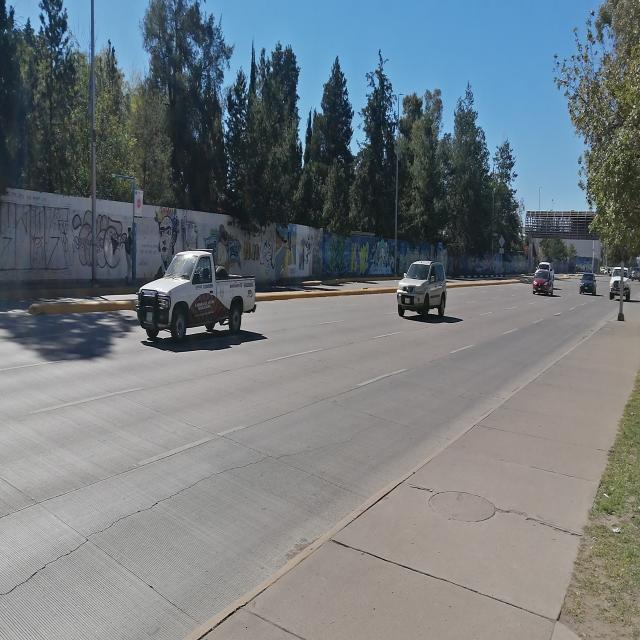Auto: (136, 245, 256, 348), (396, 255, 449, 322), (531, 267, 555, 299), (578, 269, 598, 300)
